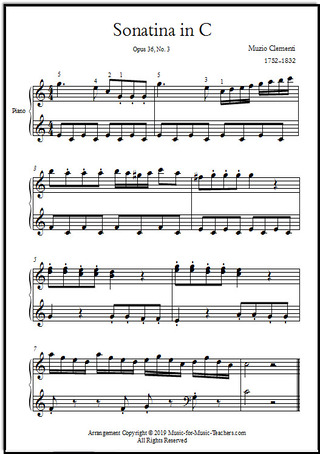Partitura: (11, 14, 304, 444)
